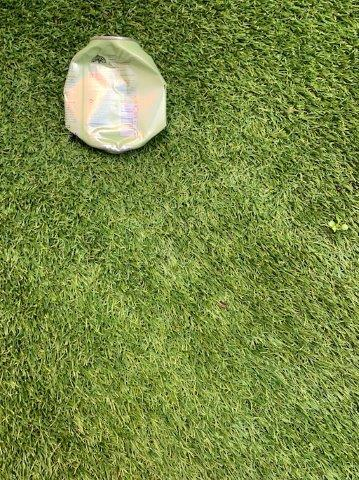kaleng: (64, 36, 168, 154)
